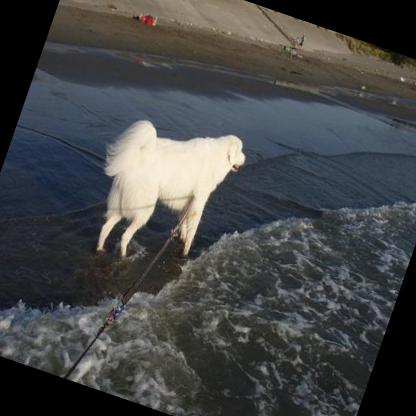Great_Pyrenees: (74, 96, 251, 287)
